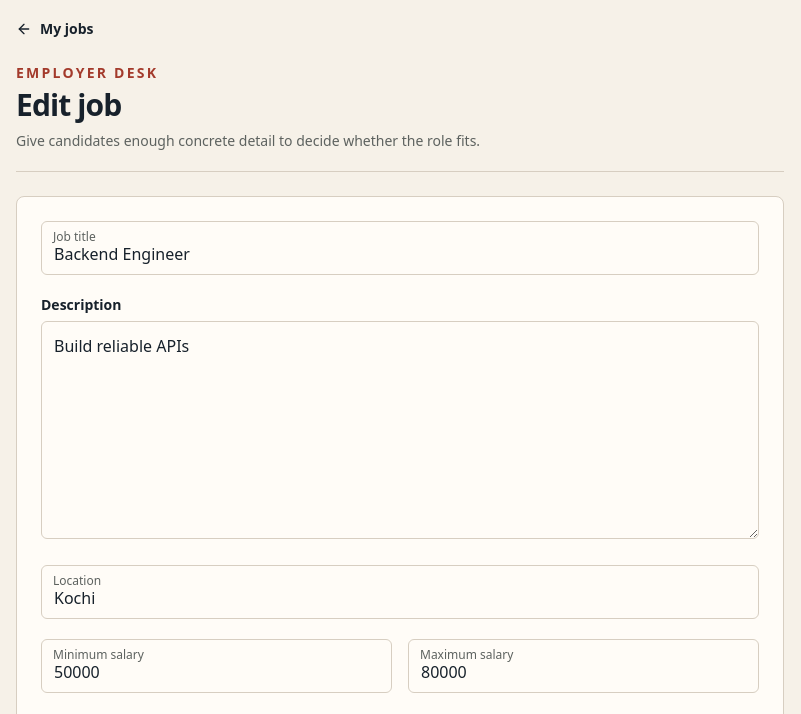
Test: JobEditorPage › prefills and updates an existing job without leaving the editor
Replace the text in the field labelled "Job title" with "Senior Backend Engineer". click: (400,248)
box: [41,221,759,275]
(page scrolled)
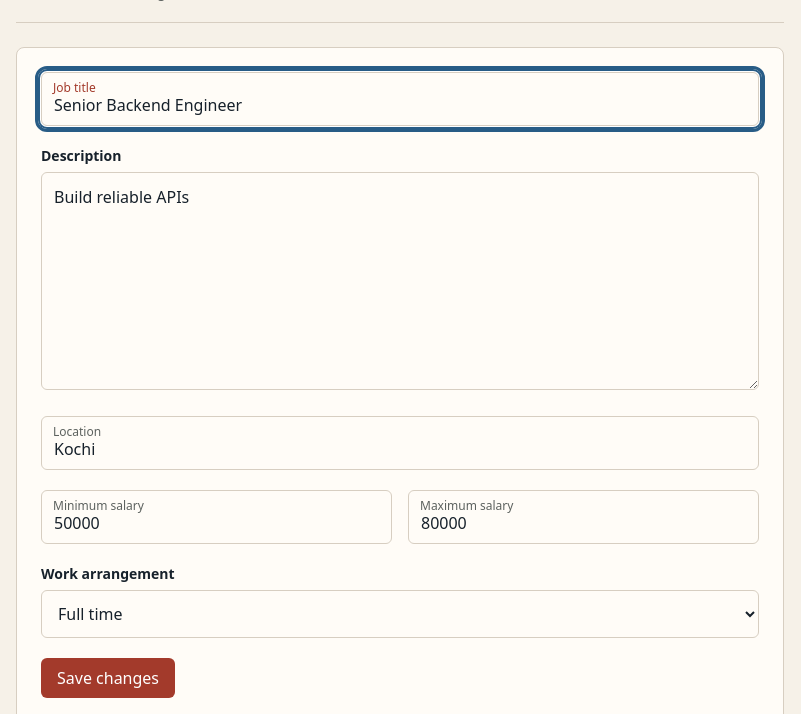
Click the button "Save changes". click: (108,678)
box: [41,658,175,698]
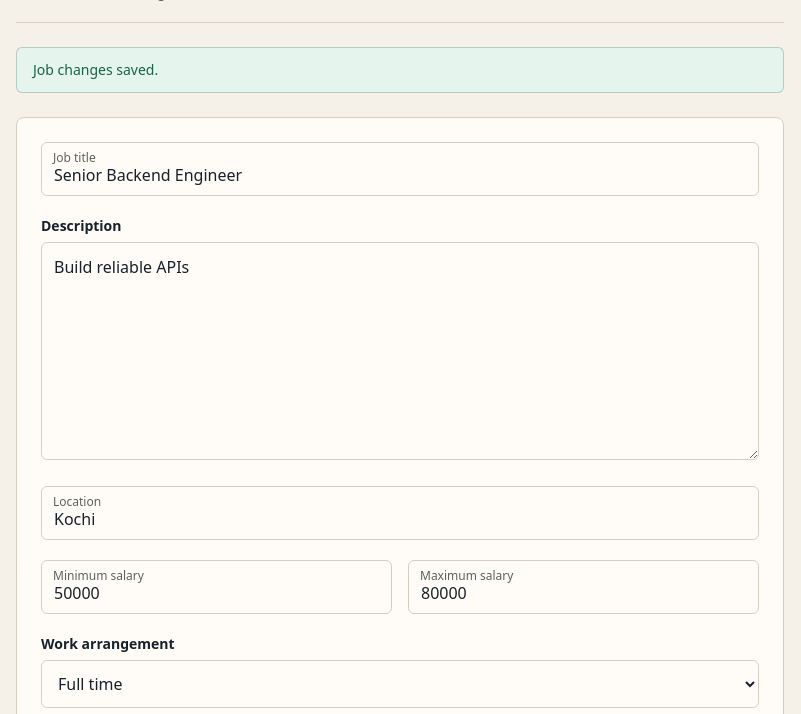
Expected: the text "Job changes saved." is shown, [33,60,158,79]
